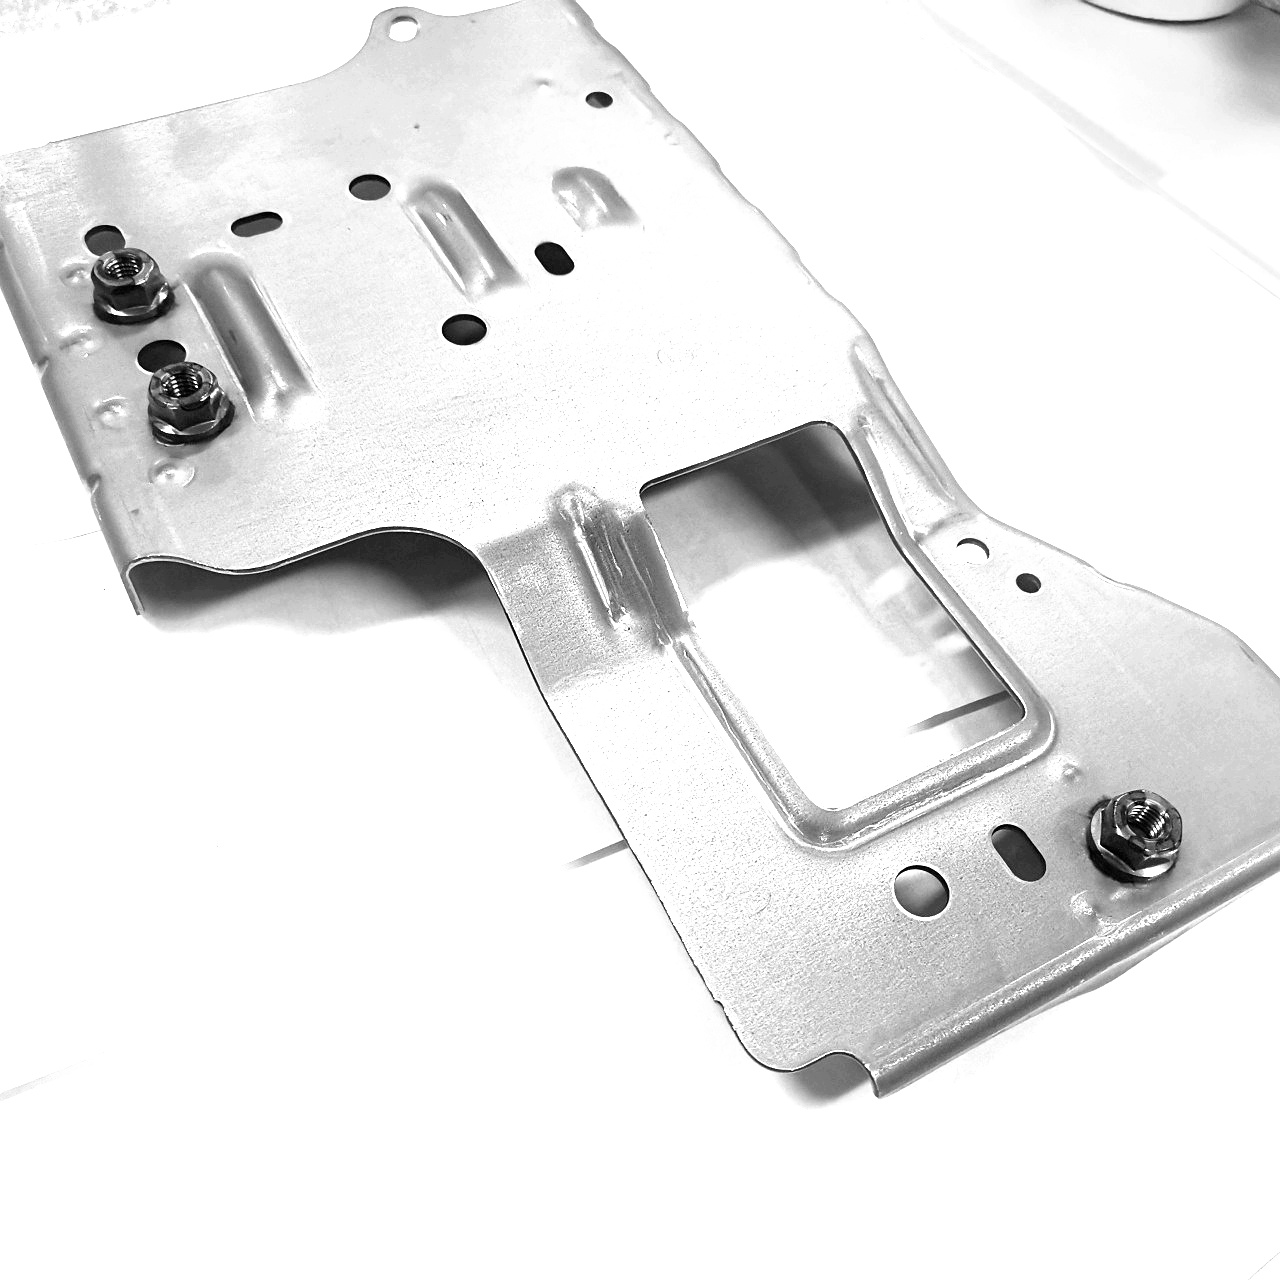dog: (1078, 784, 1189, 892), (142, 354, 240, 452), (82, 241, 181, 331)
